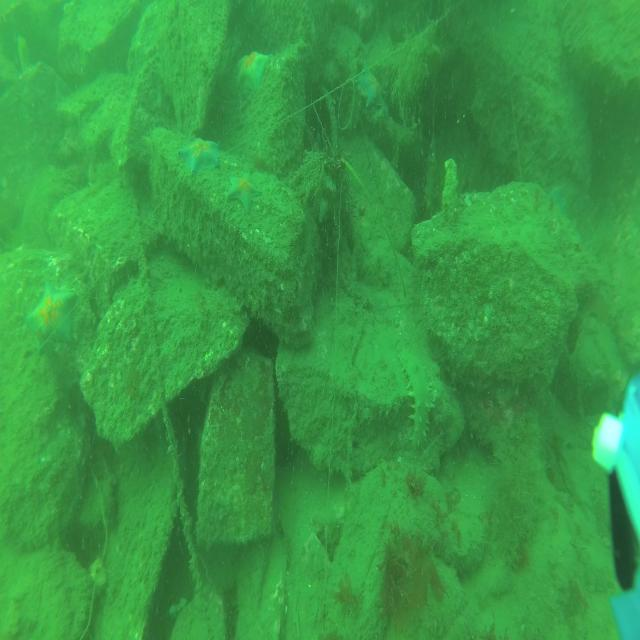holothurian: (398, 351, 435, 449)
starfish: (25, 285, 77, 346), (178, 136, 222, 172), (228, 169, 262, 213), (237, 49, 269, 92), (354, 64, 384, 108)
